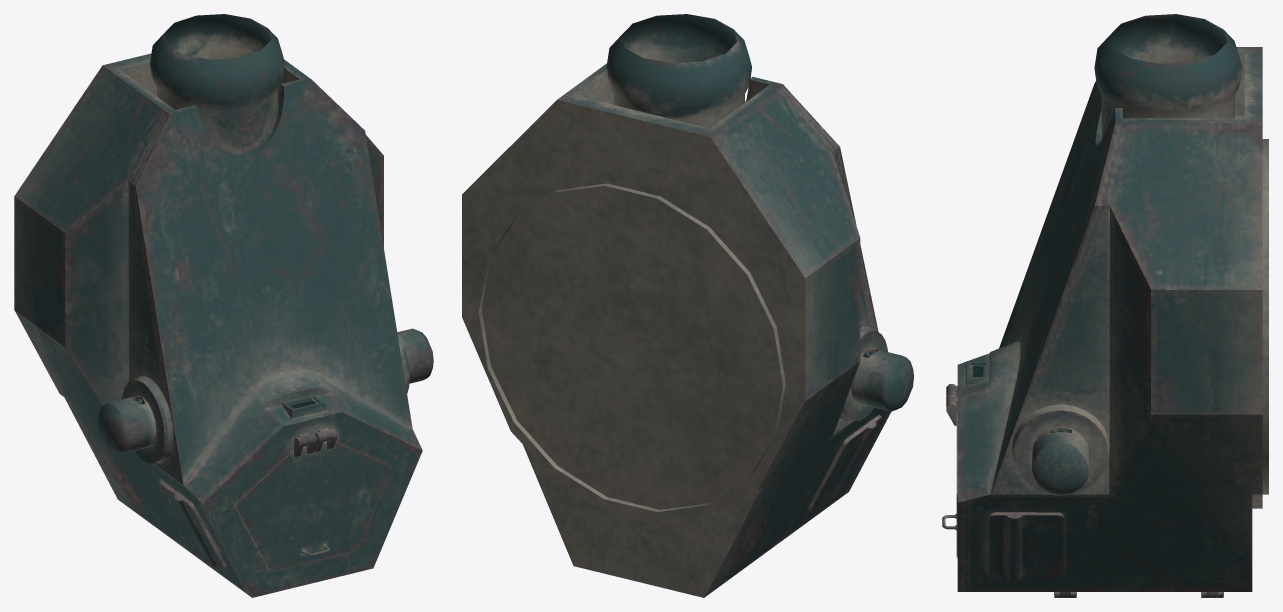
The model's file is Turret_02.glb.
3 renders of one model, left to right at view 1: azimuth 30°, elevation 25°; view 2: azimuth 150°, elevation 25°; view 3: azimuth 270°, elevation 25°, orthographic. The views are drawn at different scales.
Parts seen in each view (by area): view 1: set_0_group_0; view 2: set_0_group_0; view 3: set_0_group_0.
Boxes of the visible parts, x1=… form: set_0_group_0: x1=14, y1=14, x2=433, y2=597; set_0_group_0: x1=462, y1=14, x2=913, y2=597; set_0_group_0: x1=942, y1=14, x2=1268, y2=597.
Size of the model in its own units: 1.49 by 2.14 by 1.19.
1 material, 1 textured.
